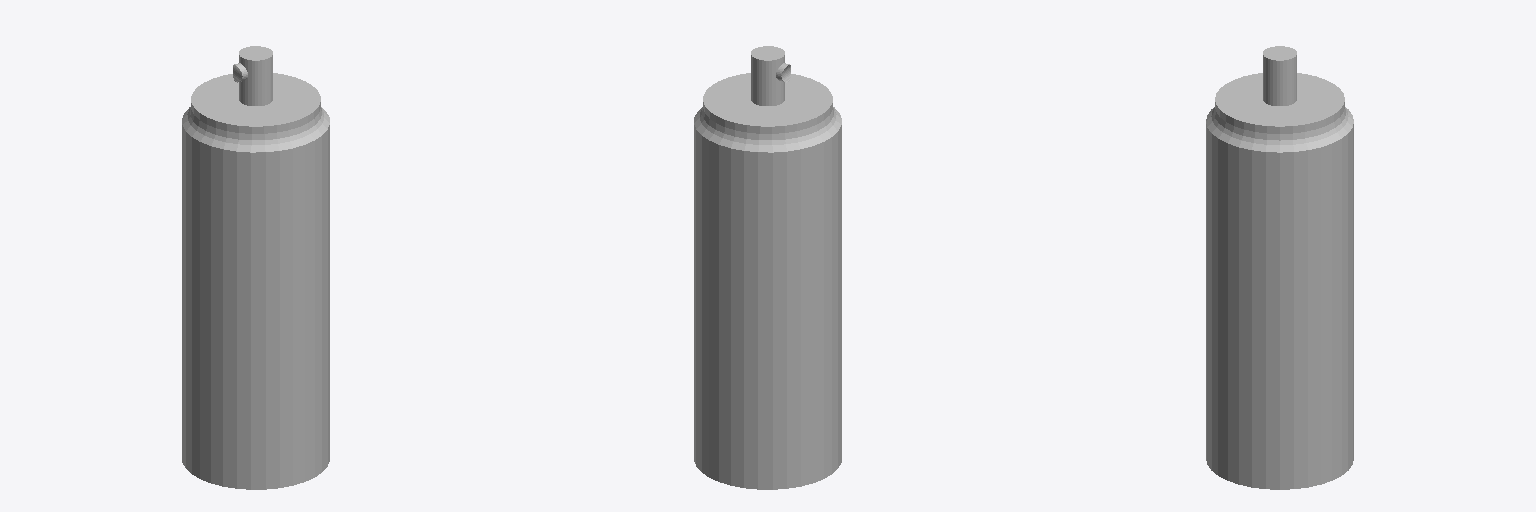
The model's file is canonAPeinture.obj.
3 views of the same model, side by side, from view 1: azimuth 30°, elevation 25°; view 2: azimuth 150°, elevation 25°; view 3: azimuth 270°, elevation 25° (orthographic).
Bounding box in the file's own units: 0.0846 × 0.255 × 0.0846.